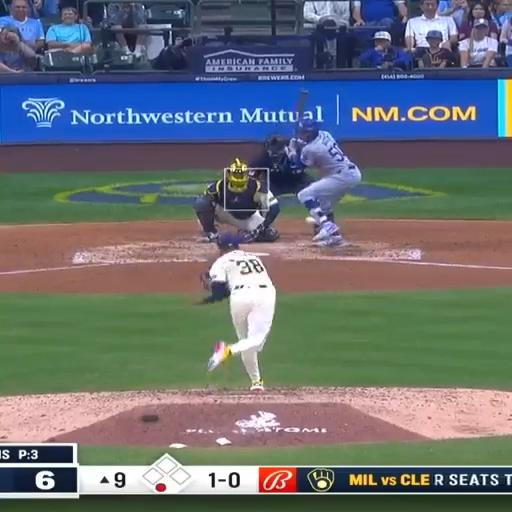bat: (295, 89, 308, 135), (297, 89, 308, 120)
